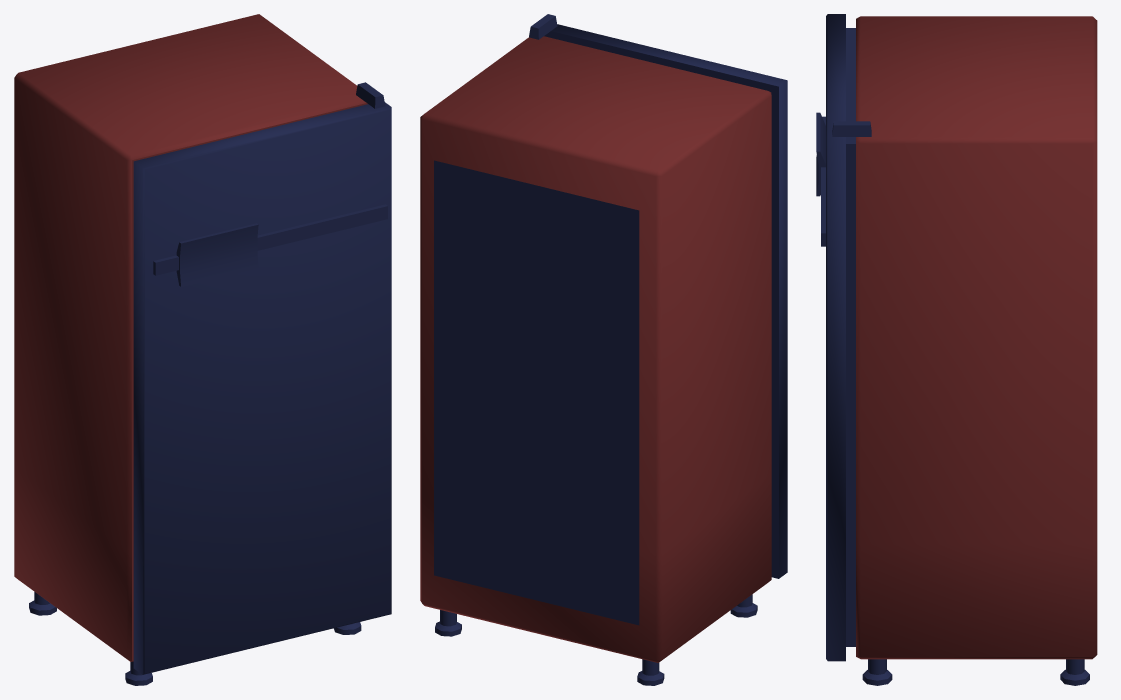
File: exp2.fbx
3 views of the same model, side by side, from view 1: azimuth 30°, elevation 25°; view 2: azimuth 150°, elevation 25°; view 3: azimuth 270°, elevation 25° (orthographic). The views are drawn at different scales.
Parts seen in each view (by area): view 1: Box031, Box028, Box035; view 2: Box028, Plane002, Box031; view 3: Box028, Box031, Box035, Cylinder013, Box037, Cylinder015.
Boxes of the visible parts, bbox=[...] form: Box031: bbox=[133, 102, 391, 674]; Box028: bbox=[14, 14, 367, 661]; Box035: bbox=[153, 204, 387, 286]; Box028: bbox=[420, 36, 771, 662]; Plane002: bbox=[434, 160, 639, 625]; Box031: bbox=[544, 24, 787, 578]; Box028: bbox=[856, 16, 1097, 659]; Box031: bbox=[826, 14, 855, 661]; Box035: bbox=[816, 112, 825, 246]; Cylinder013: bbox=[862, 659, 892, 685]; Box037: bbox=[832, 121, 871, 136]; Cylinder015: bbox=[1060, 659, 1089, 685].
Size of the model in its own units: 601 by 1256 by 588.
